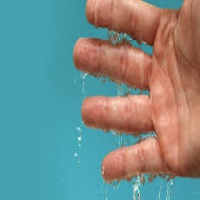ring: (75, 91, 163, 136)
